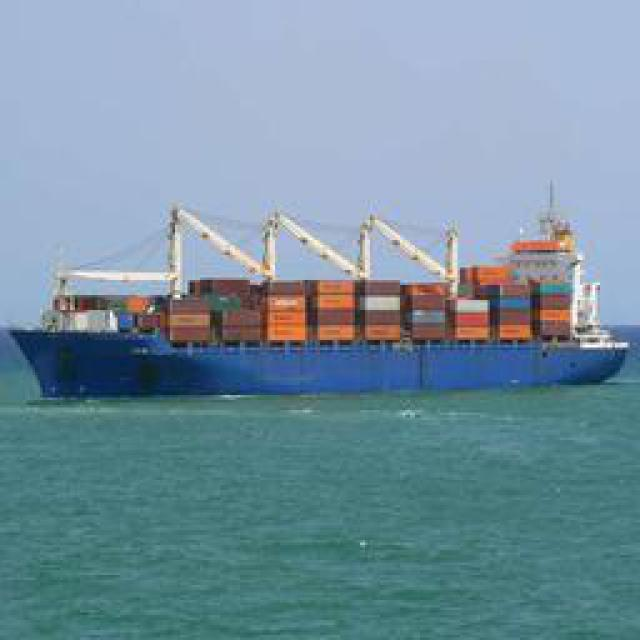Ship: (23, 184, 631, 384)
